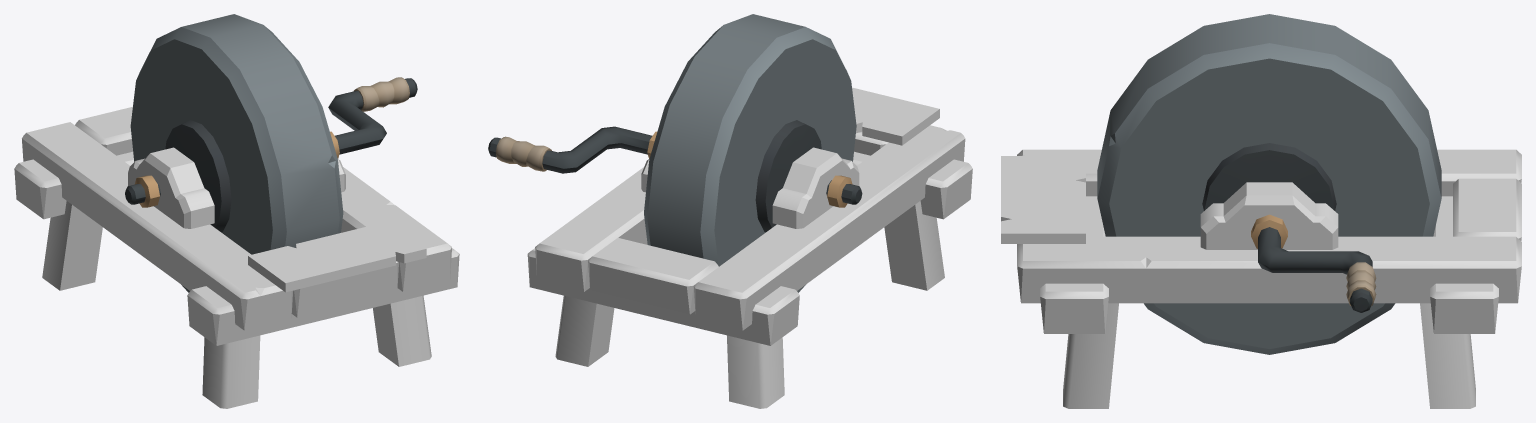
File: KT_grindstone.glb
The picture shows the model from 3 angles, left to right: view 1: azimuth 30°, elevation 25°; view 2: azimuth 150°, elevation 25°; view 3: azimuth 270°, elevation 25°; orthographic projection. The views are drawn at different scales.
Parts seen in each view (by area): view 1: grindstone, grindstone_wheel; view 2: grindstone, grindstone_wheel; view 3: grindstone_wheel, grindstone.
Boxes of the visible parts, box(x1,y1,x2,y2) form: grindstone: box(14, 106, 459, 408); grindstone_wheel: box(125, 14, 417, 292); grindstone: box(527, 87, 972, 408); grindstone_wheel: box(488, 14, 862, 292); grindstone_wheel: box(1097, 14, 1441, 354); grindstone: box(1001, 149, 1521, 408).
Size of the model in its own units: 1.94 by 1.55 by 2.27.
